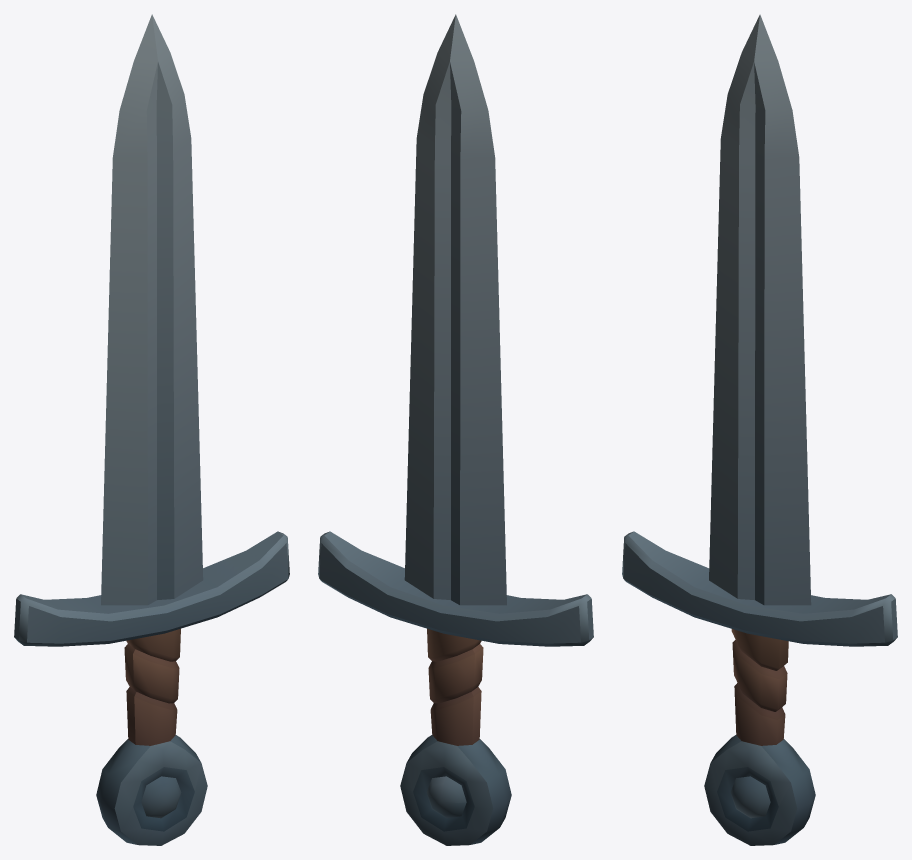
The model's file is XW_sword_B.glb.
3 renders of one model, left to right at view 1: azimuth 30°, elevation 25°; view 2: azimuth 150°, elevation 25°; view 3: azimuth 330°, elevation 25°, orthographic.
Visible parts, largest first — view 1: sword_B; view 2: sword_B; view 3: sword_B.
Part boxes in pixels (x1=…): sword_B: x1=14, y1=14, x2=289, y2=845; sword_B: x1=318, y1=14, x2=593, y2=845; sword_B: x1=622, y1=14, x2=897, y2=845.
Size of the model in its own units: 0.6108 by 1.79 by 0.1201.
